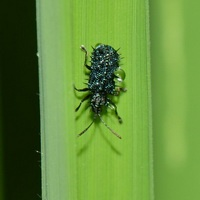insect: (74, 44, 125, 138)
